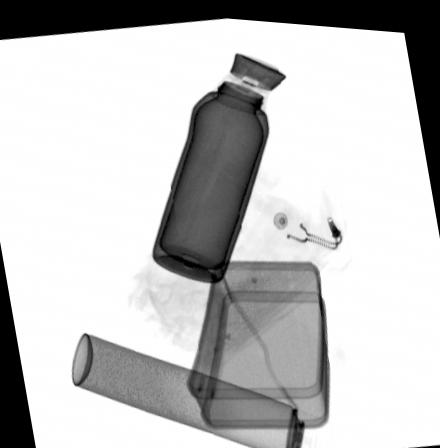Sprayer: (69, 329, 333, 448)
